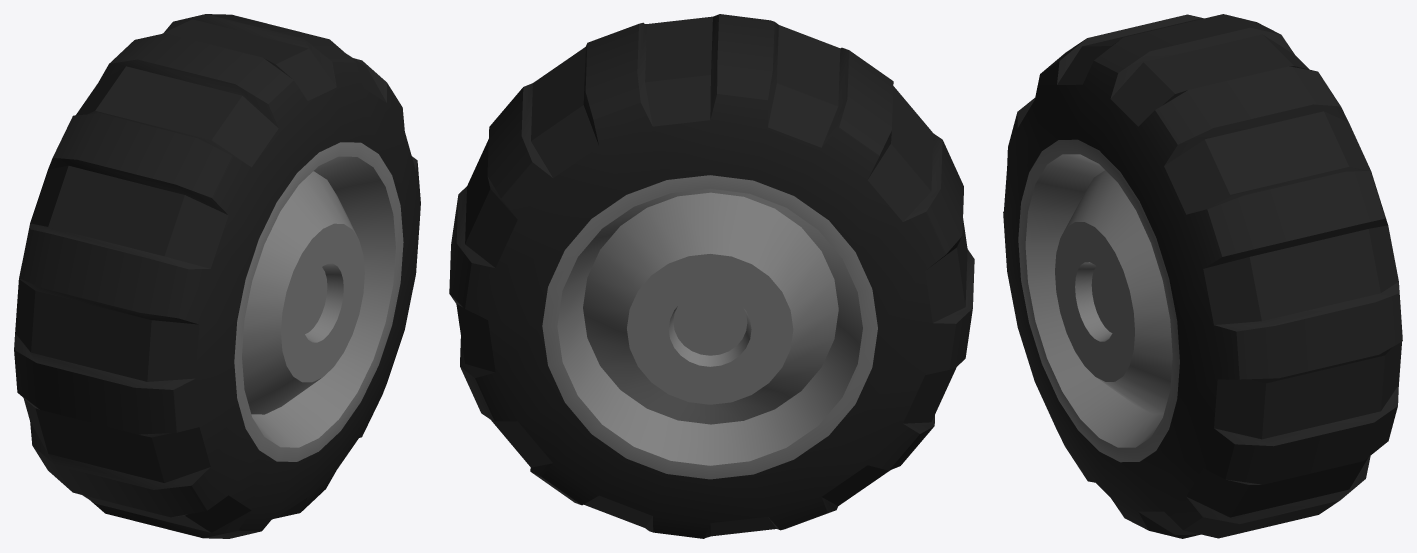
Rendered from frontwheel_r.003_lev1.glb.
3 views of the same model, side by side, from view 1: azimuth 30°, elevation 25°; view 2: azimuth 150°, elevation 25°; view 3: azimuth 270°, elevation 25° (orthographic).
Visible parts, largest first — view 1: frontwheel_r.003_lev1; view 2: frontwheel_r.003_lev1; view 3: frontwheel_r.003_lev1.
Boxes of the visible parts, left/top/right/bottom form: frontwheel_r.003_lev1: left=14, top=14, right=420, bottom=538; frontwheel_r.003_lev1: left=449, top=14, right=974, bottom=538; frontwheel_r.003_lev1: left=1003, top=14, right=1402, bottom=538.
Size of the model in its own units: 0.8922 by 0.8967 by 0.6922.
1 material, 1 textured.
